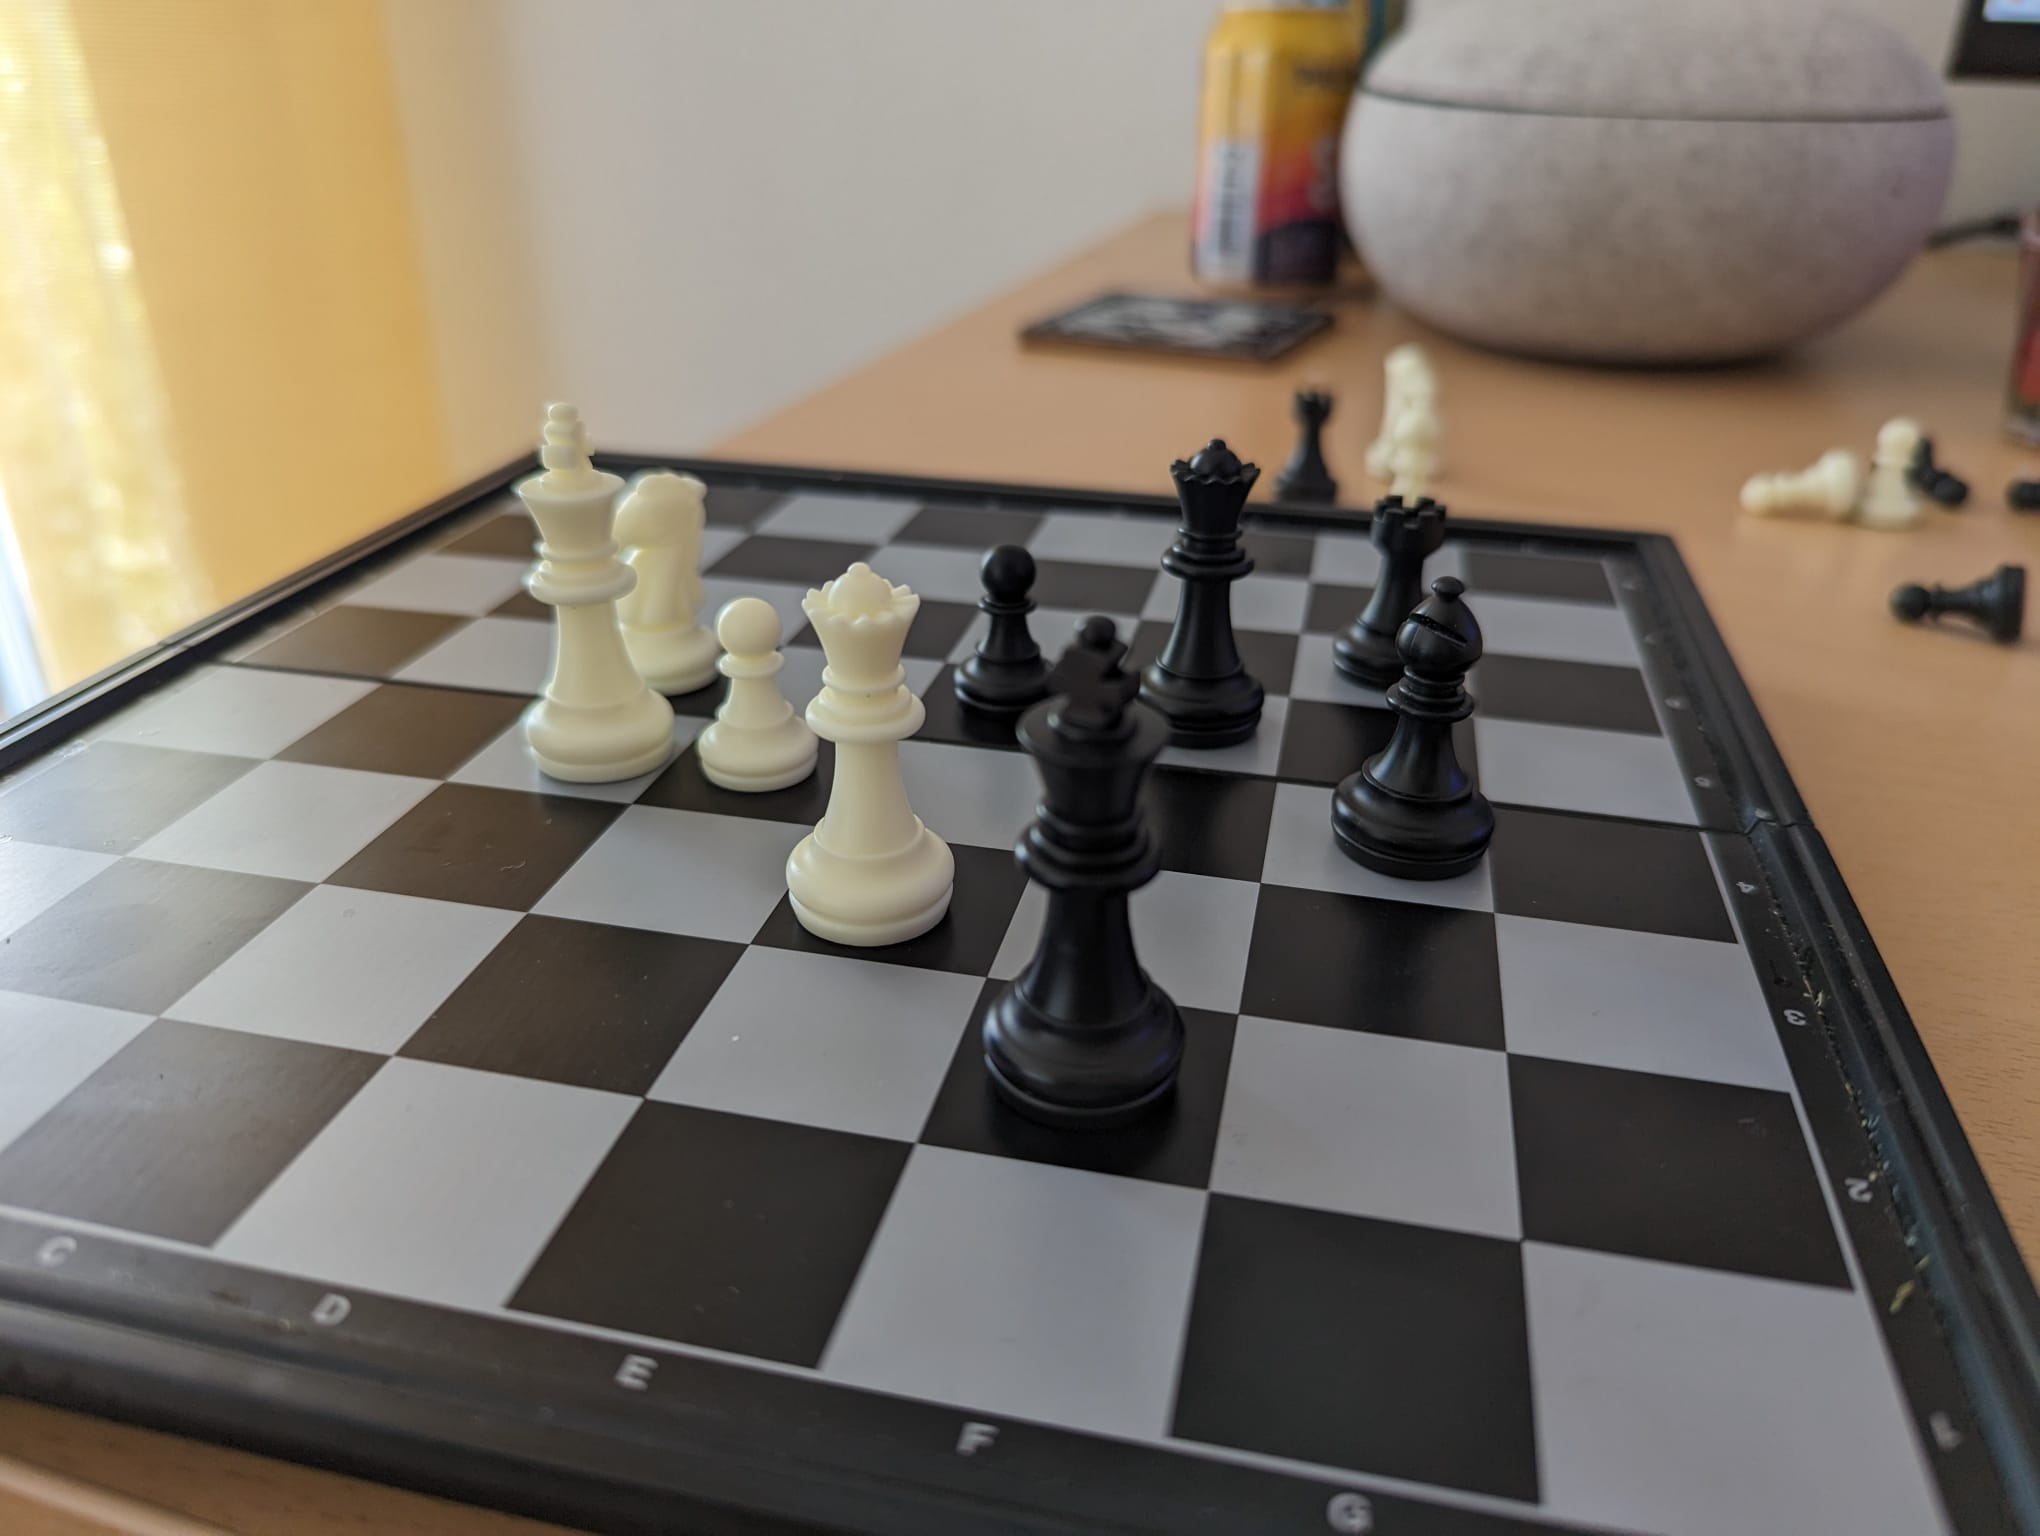BB: (1330, 578, 1498, 881)
BK: (974, 616, 1195, 1129)
BP: (950, 534, 1055, 720)
BQ: (1155, 432, 1266, 753)
BR: (1334, 486, 1451, 691)
WK: (502, 394, 679, 787)
WN: (614, 470, 721, 692)
WP: (693, 587, 822, 795)
WQ: (774, 557, 953, 957)
